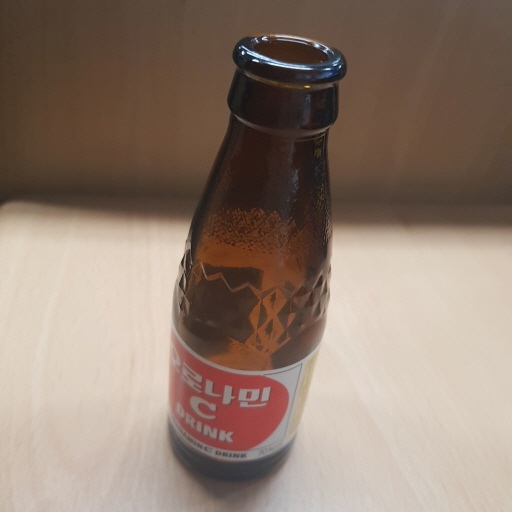Glass_3: (150, 34, 348, 481)
